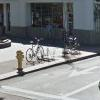Bicycle: (18, 34, 55, 67)
